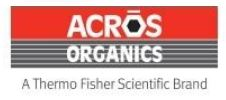AcrosOrganics: (65, 9, 164, 63)
